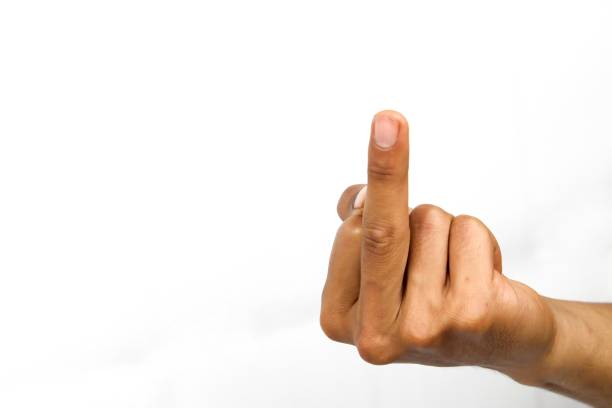insulting_gesture: (316, 111, 555, 386)
